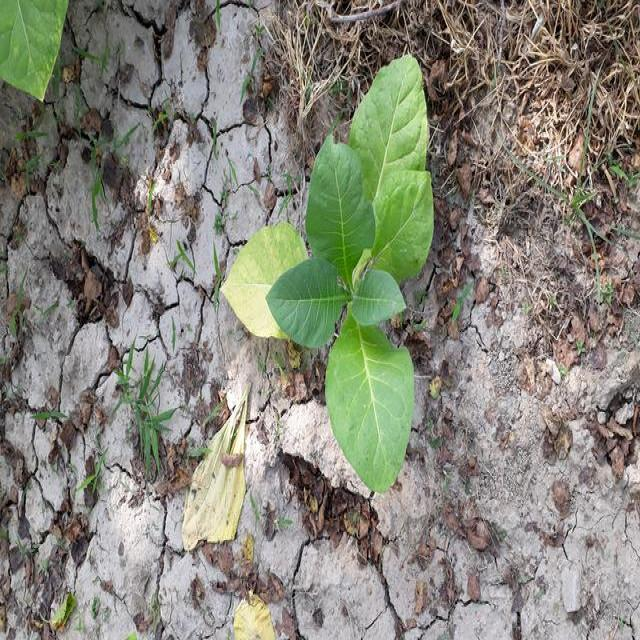crop: (232, 58, 436, 489), (0, 0, 65, 101)
